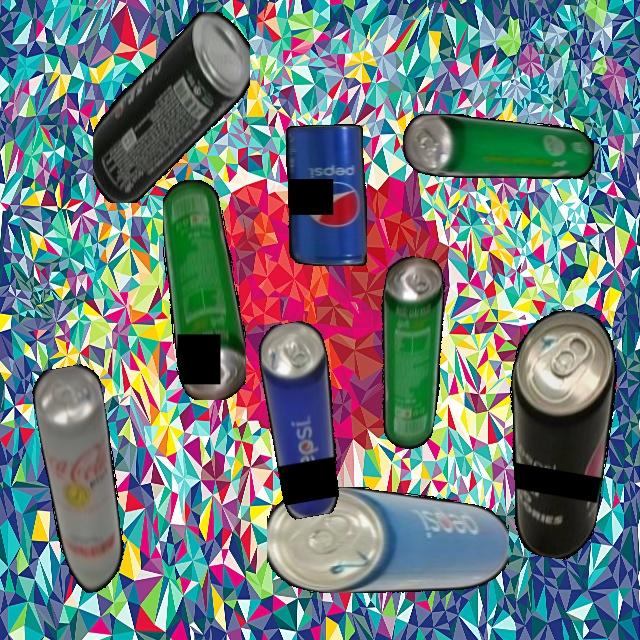debris: (482, 303, 631, 564), (92, 11, 250, 203), (267, 486, 509, 593), (29, 362, 136, 596), (358, 253, 461, 452), (254, 318, 354, 520), (162, 179, 246, 400), (403, 113, 594, 180), (285, 124, 367, 266)
